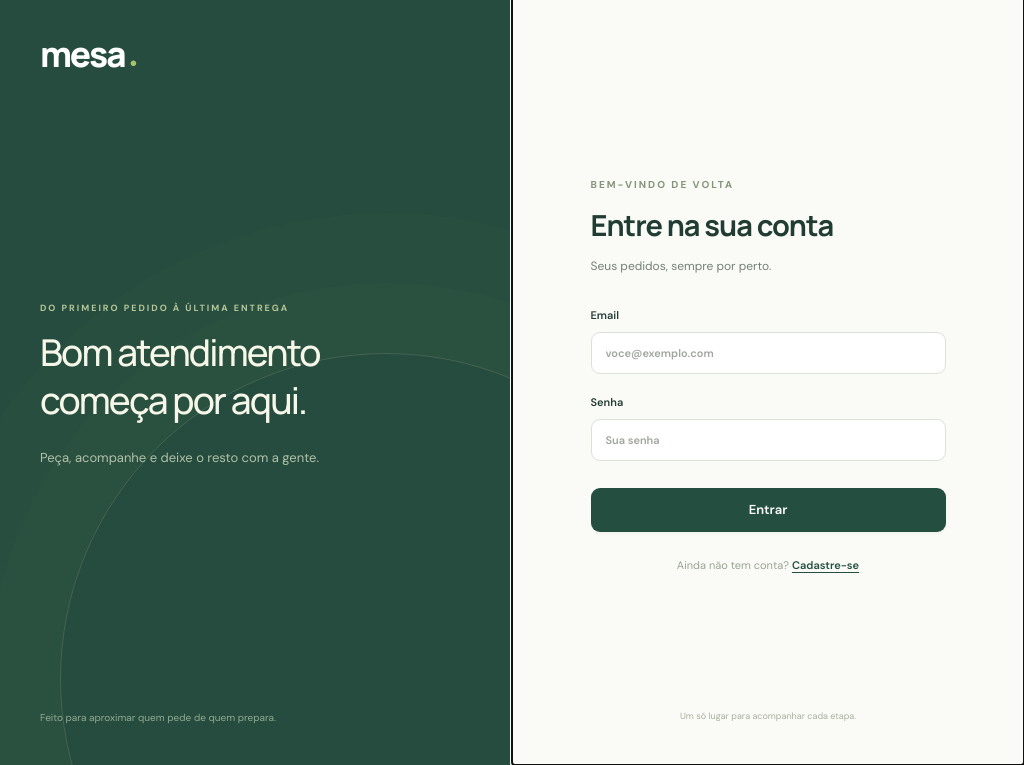
Test: directs the customer to check orders after an ambiguous gateway failure
Type "ana@example.com" into the field labelled "Email" at coordinates (768, 353), box [590,332,946,374]
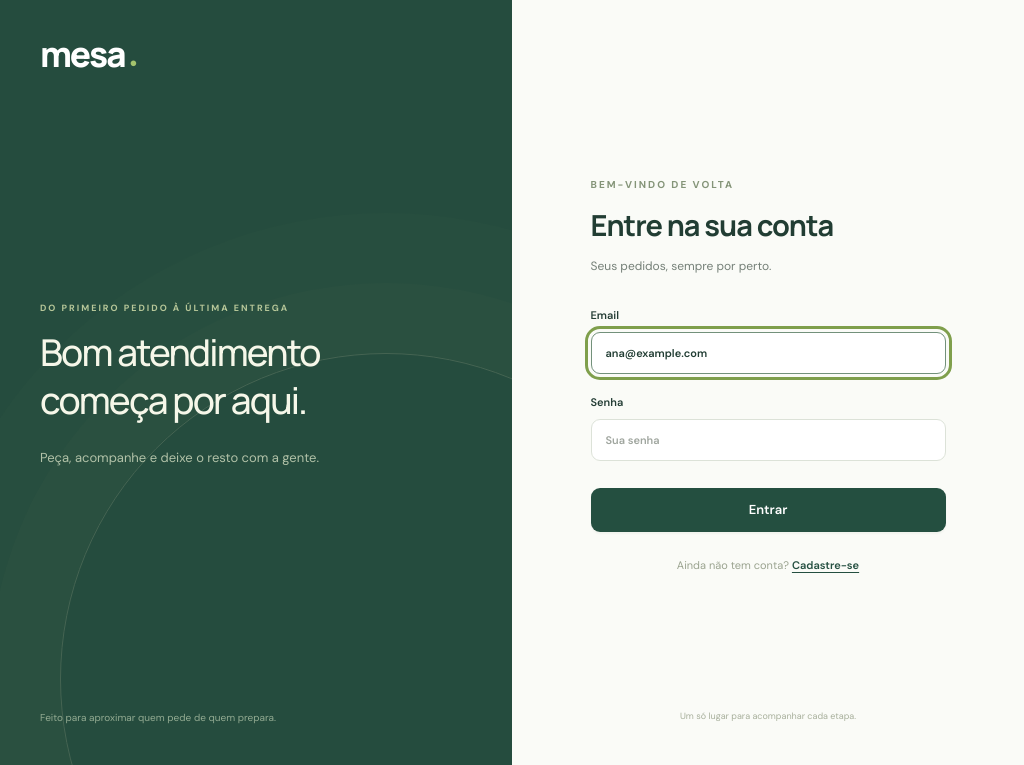
Type "senha" into the password field labelled "Senha" at coordinates (768, 440), box [590,419,946,461]
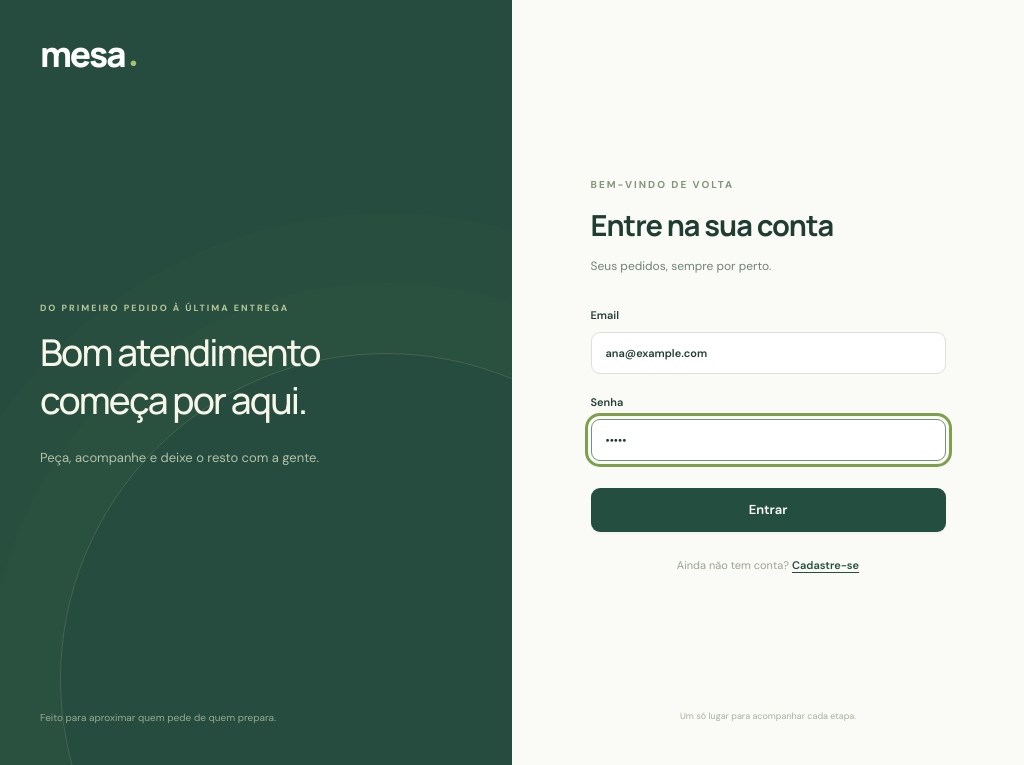
Click the button "Entrar" at coordinates (768, 510), box [590,488,946,532]
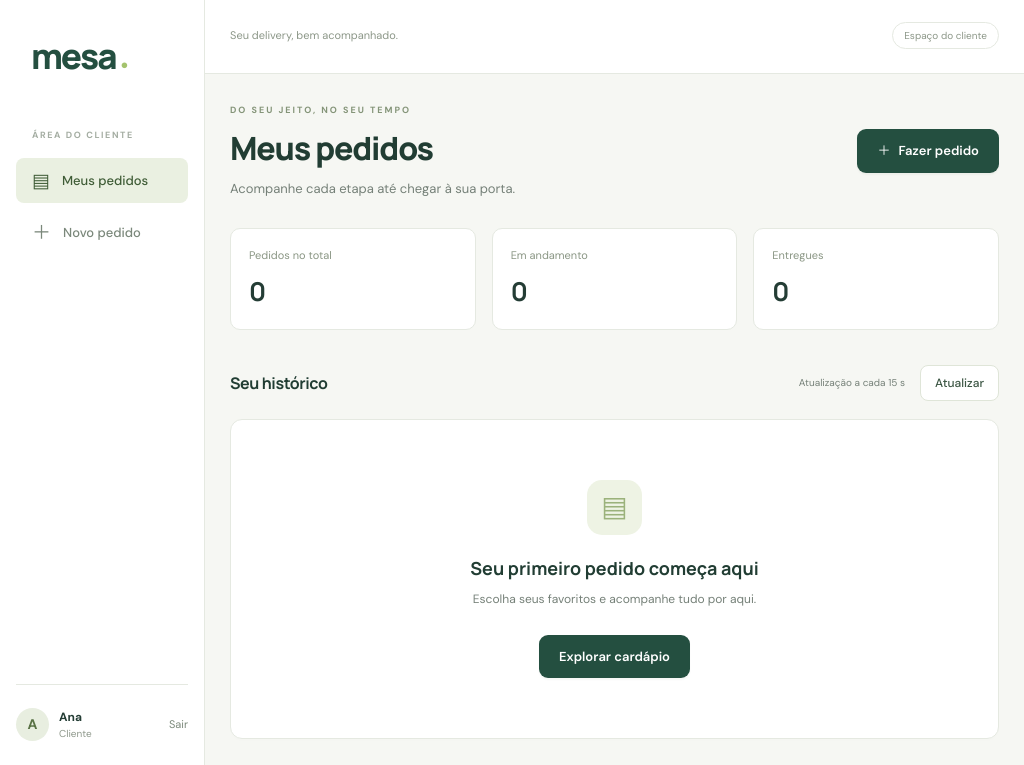
Click the link "＋ Novo pedido" at coordinates (86, 233), box [32,220,141,245]
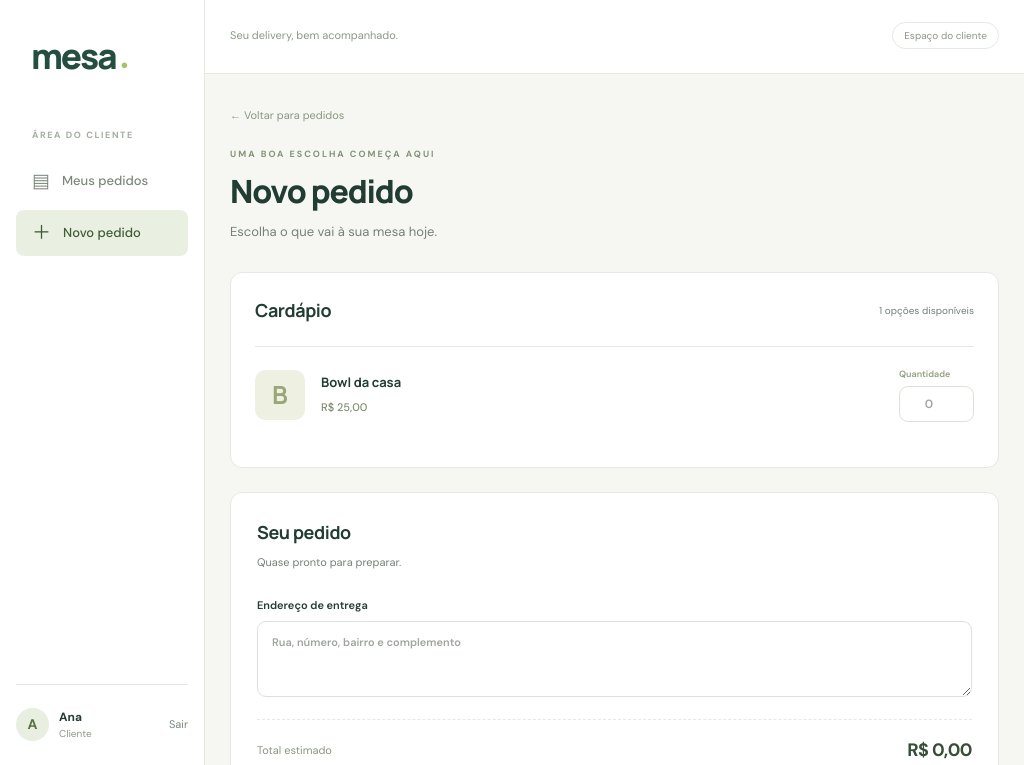
Type "1" into the number field named "Quantidade de Bowl da casa" at coordinates (936, 404), box [899,386,974,422]
Type "Rua A" into the text box labelled "Endereço de entrega" at coordinates (614, 659), box [257,621,972,697]
(page scrolled)
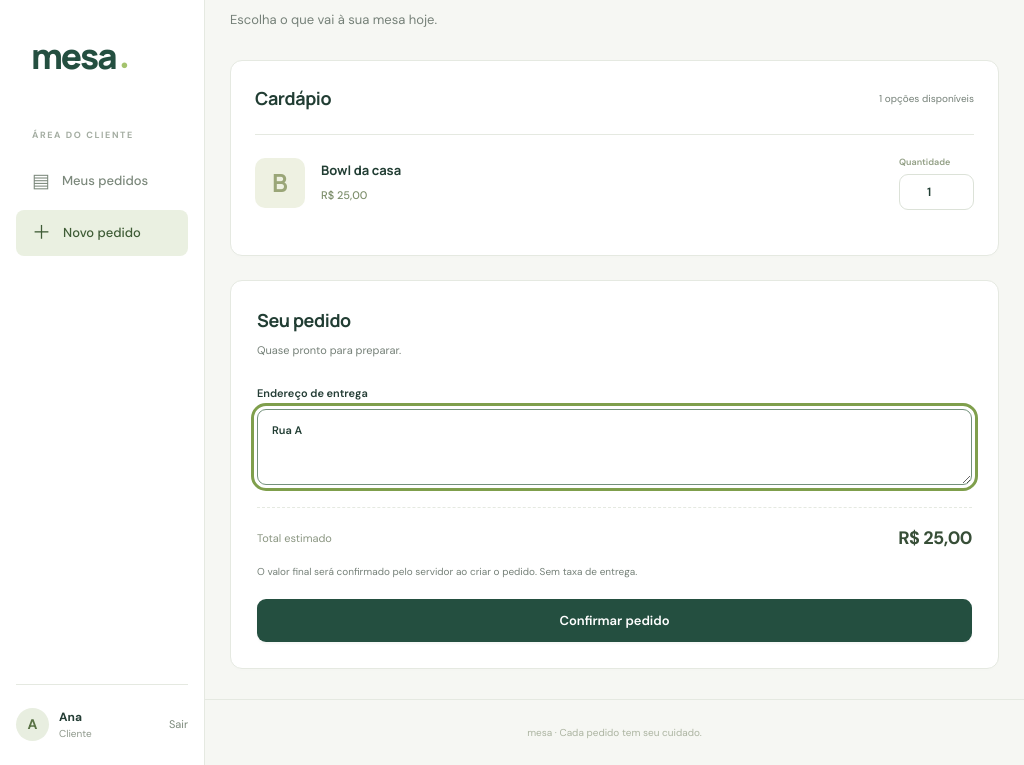
Click the button "Confirmar pedido" at coordinates (614, 621), box [257,599,972,642]
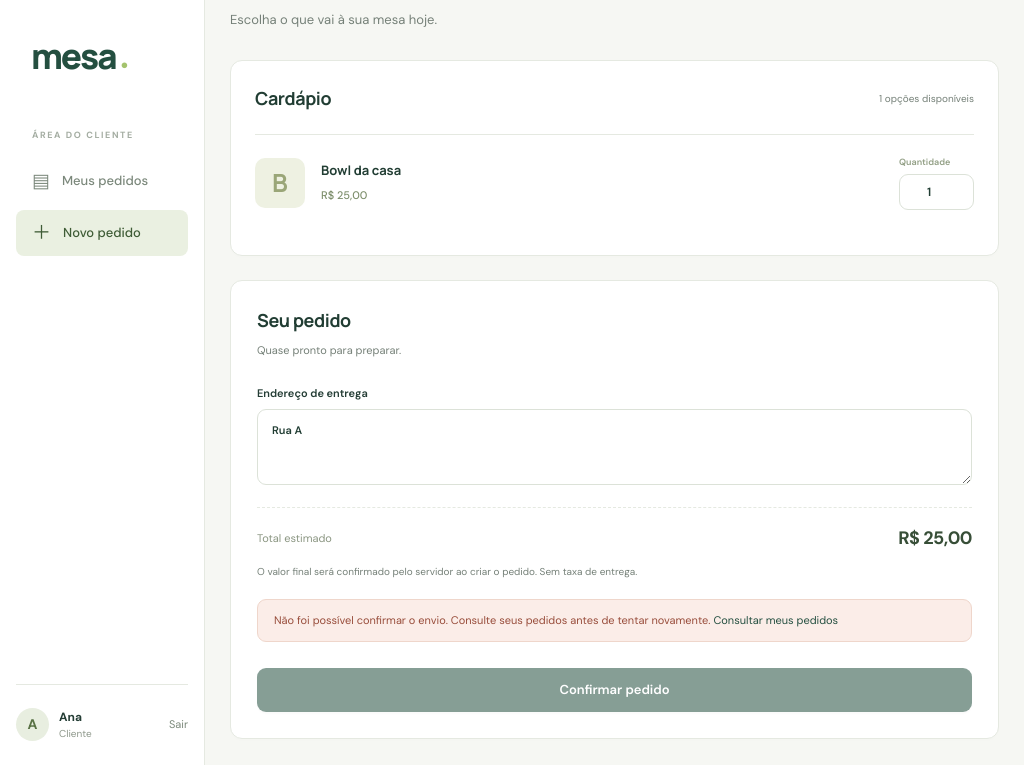
Expected: the message shows "Consulte seus pedidos antes de tentar novamente", [274,613,710,627]
